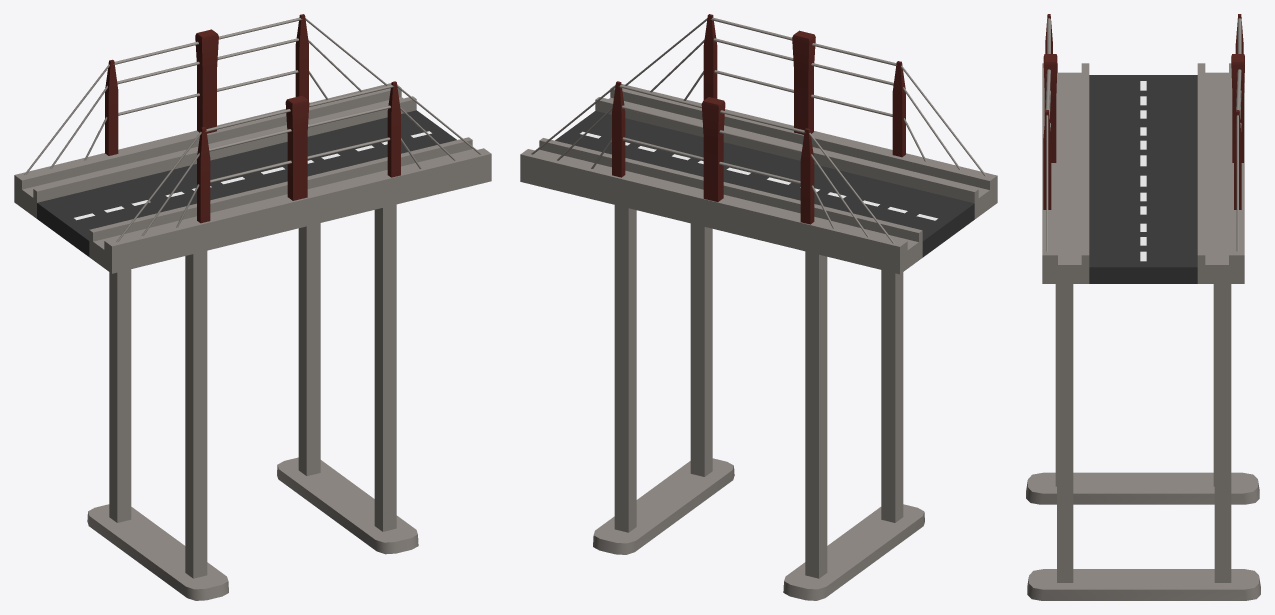
The model's file is Bridge_1.fbx.
3 renders of one model, left to right at view 1: azimuth 30°, elevation 25°; view 2: azimuth 150°, elevation 25°; view 3: azimuth 270°, elevation 25°, orthographic. The views are drawn at different scales.
Parts seen in each view (by area): view 1: Bridge_1; view 2: Bridge_1; view 3: Bridge_1.
Boxes of the visible parts, box(x1,y1,x2,y2) form: Bridge_1: box(14, 14, 491, 600); Bridge_1: box(520, 14, 997, 600); Bridge_1: box(1026, 14, 1260, 600).
Bounding box in the file's own units: 3000 × 3527 × 1549.
